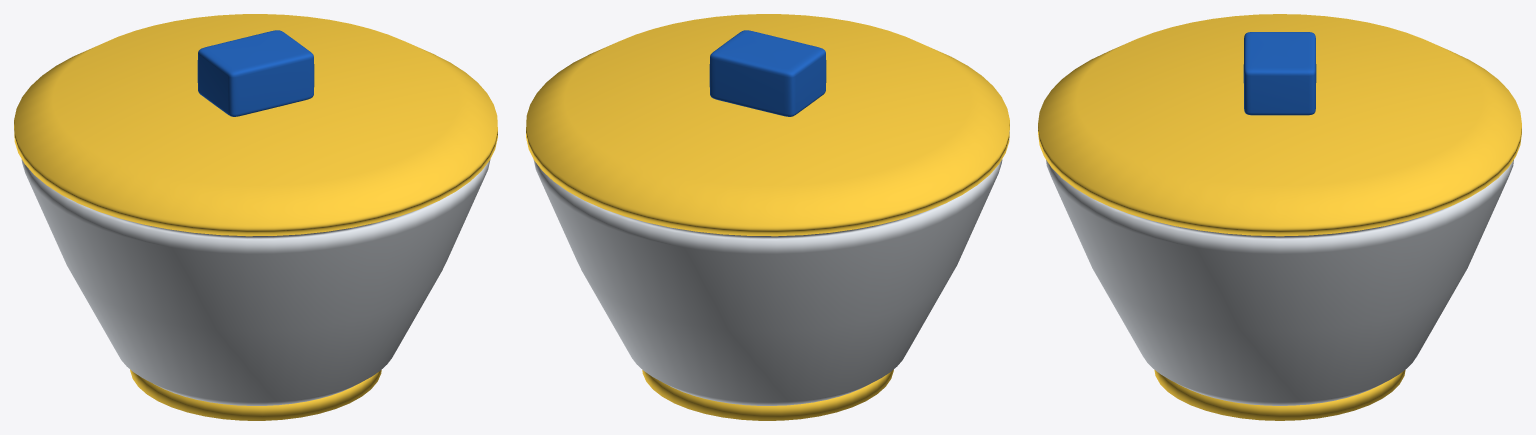
Rendered from mixing_bowl.glb.
The picture shows the model from 3 angles, left to right: view 1: azimuth 30°, elevation 25°; view 2: azimuth 150°, elevation 25°; view 3: azimuth 270°, elevation 25°; orthographic projection.
Visible parts, largest first — view 1: Mixing_Bowl_Cover, Mixing_Bowl, Mixing_Bowl_Cover_Knob, Bowl_Silicone_Foot; view 2: Mixing_Bowl_Cover, Mixing_Bowl, Mixing_Bowl_Cover_Knob, Bowl_Silicone_Foot; view 3: Mixing_Bowl_Cover, Mixing_Bowl, Mixing_Bowl_Cover_Knob, Bowl_Silicone_Foot.
Boxes of the visible parts, x1,y1,x2,y2 form: Mixing_Bowl_Cover: [14, 14, 497, 236]; Mixing_Bowl: [21, 159, 490, 405]; Mixing_Bowl_Cover_Knob: [197, 30, 314, 116]; Bowl_Silicone_Foot: [130, 369, 381, 420]; Mixing_Bowl_Cover: [526, 14, 1009, 236]; Mixing_Bowl: [533, 159, 1002, 405]; Mixing_Bowl_Cover_Knob: [709, 30, 826, 116]; Bowl_Silicone_Foot: [642, 369, 893, 420]; Mixing_Bowl_Cover: [1038, 14, 1521, 236]; Mixing_Bowl: [1046, 160, 1513, 405]; Mixing_Bowl_Cover_Knob: [1243, 32, 1316, 115]; Bowl_Silicone_Foot: [1154, 370, 1405, 420].
Size of the model in its own units: 0.334 by 0.2415 by 0.334.
